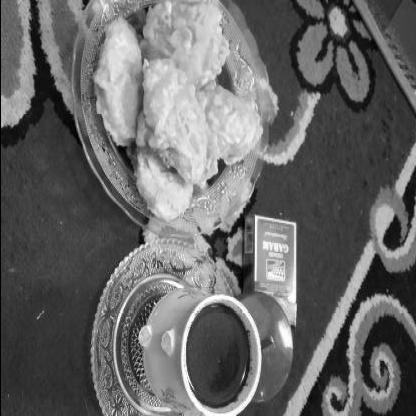objects: (242, 216, 296, 328)
